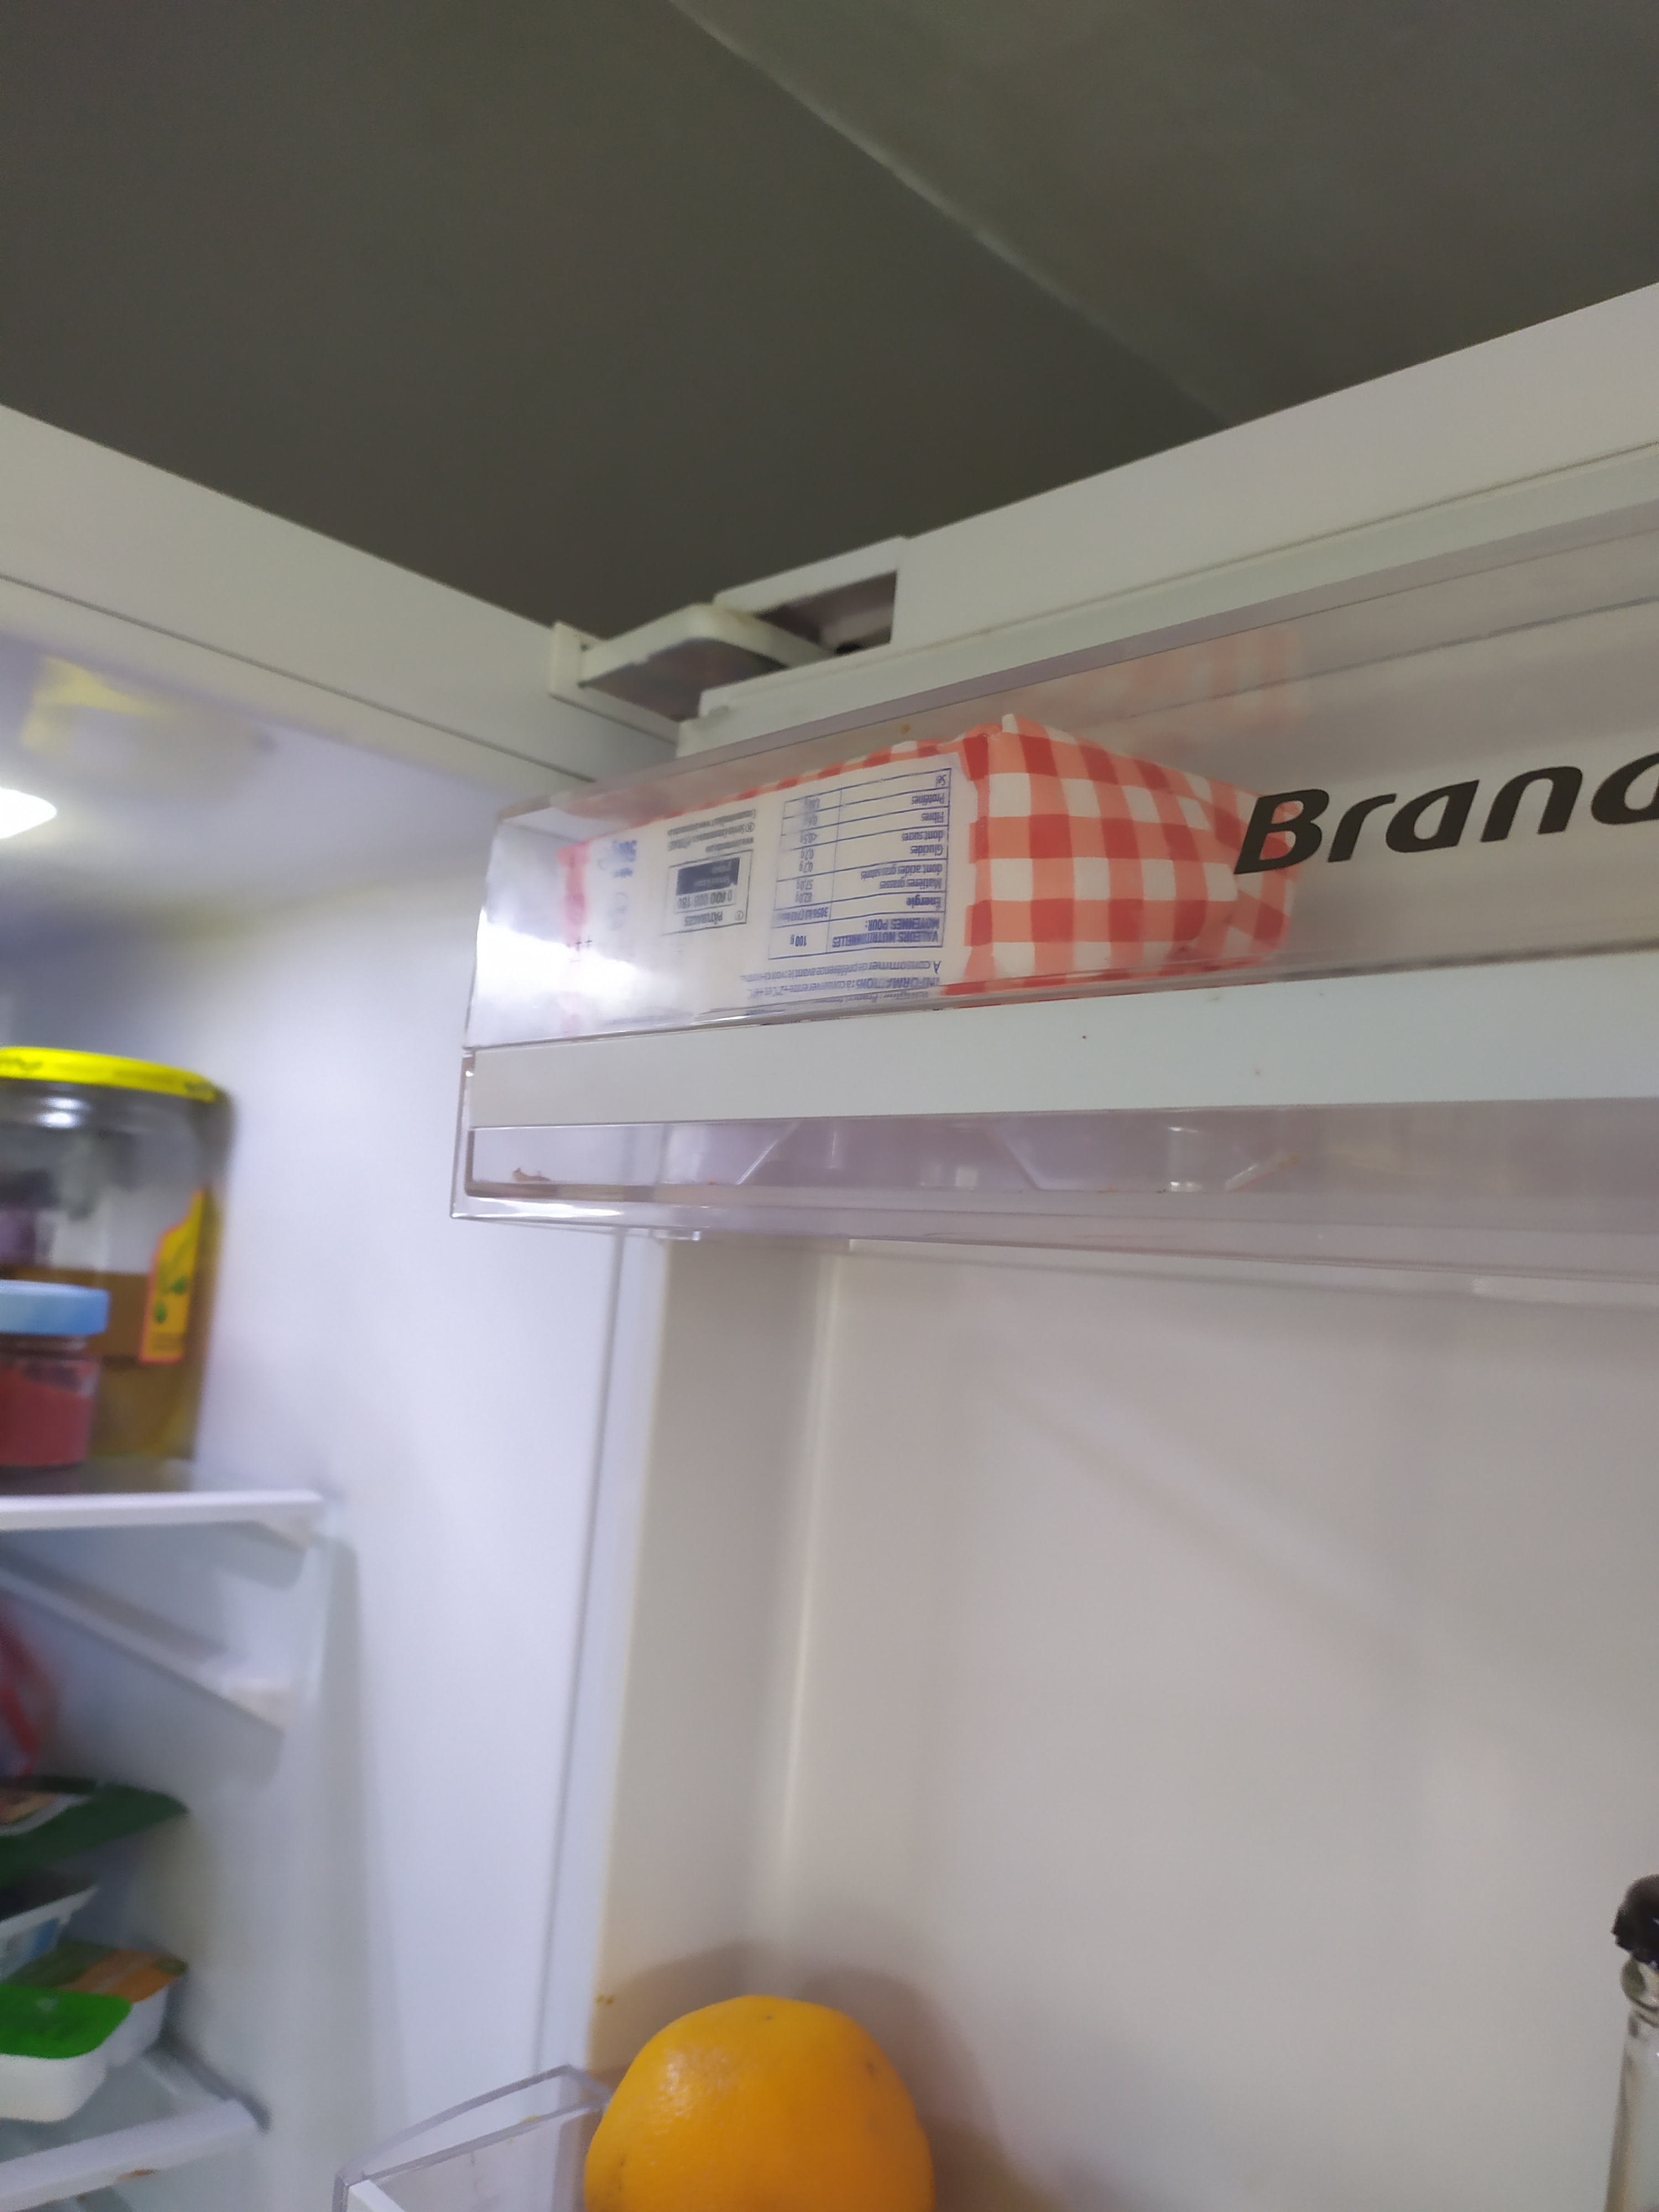bottle: (1596, 1862, 1659, 2212)
butter: (563, 733, 1314, 1019)
